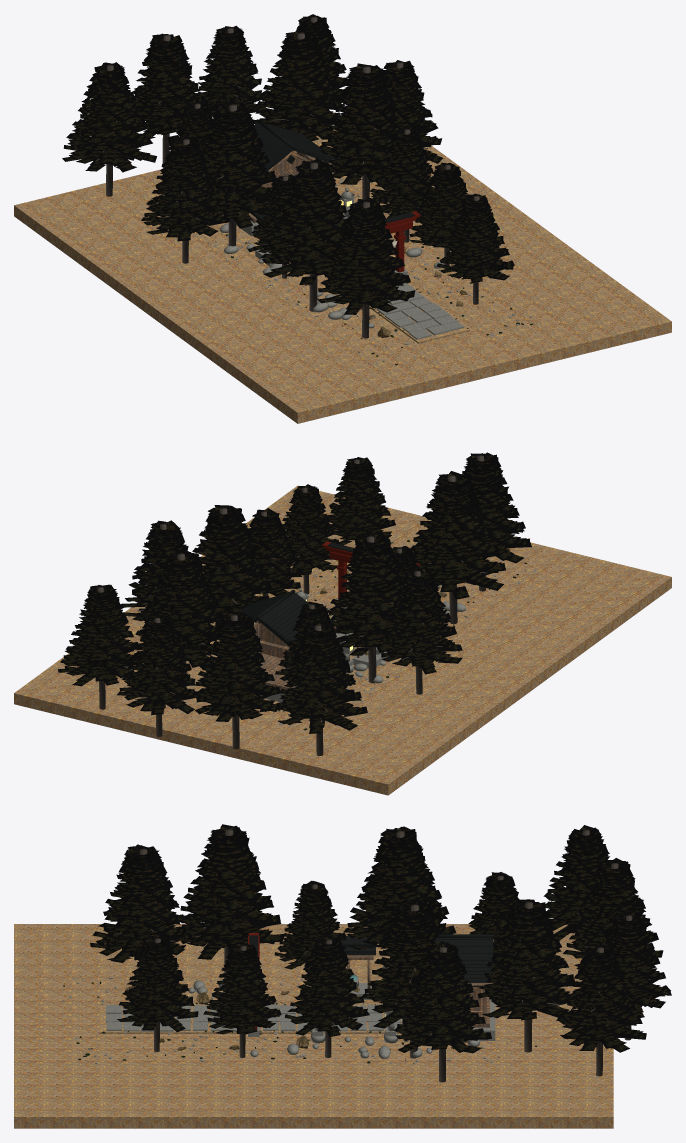
The model's file is shrine-world-realistic.glb.
The picture shows the model from 3 angles, top to bottom: view 1: azimuth 30°, elevation 25°; view 2: azimuth 150°, elevation 25°; view 3: azimuth 270°, elevation 25°; orthographic projection. The views are drawn at different scales.
Visible parts, largest first — view 1: Shrine Environment; view 2: Shrine Environment; view 3: Shrine Environment.
Boxes of the visible parts, left/top/right/bottom form: Shrine Environment: left=14, top=14, right=671, bottom=423; Shrine Environment: left=14, top=452, right=671, bottom=795; Shrine Environment: left=14, top=824, right=671, bottom=1128.
Size of the model in its own units: 32 by 12.81 by 46.08.
Materials: 12 (9 with a texture image).
